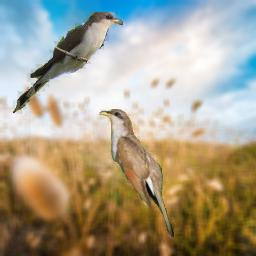Cuckoo: (9, 11, 123, 114), (98, 109, 174, 239)
